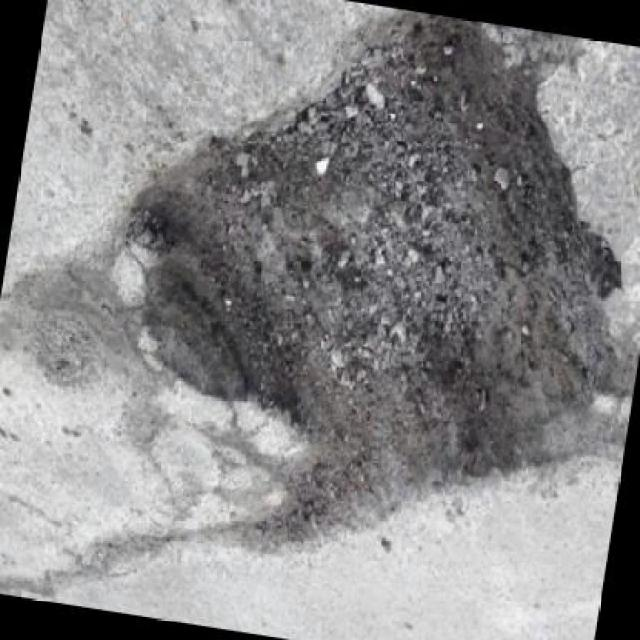pothole1: (77, 0, 638, 600)
